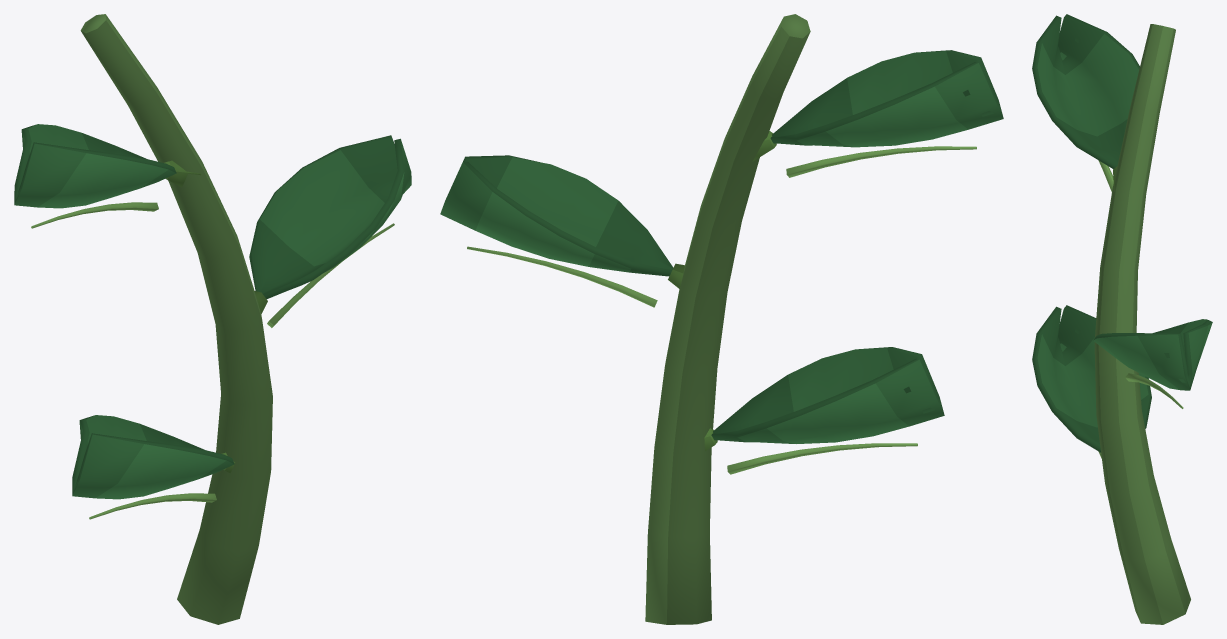
Rendered from garden-geranium-leaves-stem-0.glb.
3 views of the same model, side by side, from view 1: azimuth 30°, elevation 25°; view 2: azimuth 150°, elevation 25°; view 3: azimuth 270°, elevation 25° (orthographic). The views are drawn at different scales.
Parts seen in each view (by area): view 1: geranium-leaves-stem-0; view 2: geranium-leaves-stem-0; view 3: geranium-leaves-stem-0.
Boxes of the visible parts, bbox=[...] form: geranium-leaves-stem-0: bbox=[14, 14, 411, 624]; geranium-leaves-stem-0: bbox=[440, 14, 1003, 624]; geranium-leaves-stem-0: bbox=[1032, 14, 1212, 624].
Bounding box in the file's own units: 0.1136 × 0.1429 × 0.0429.
